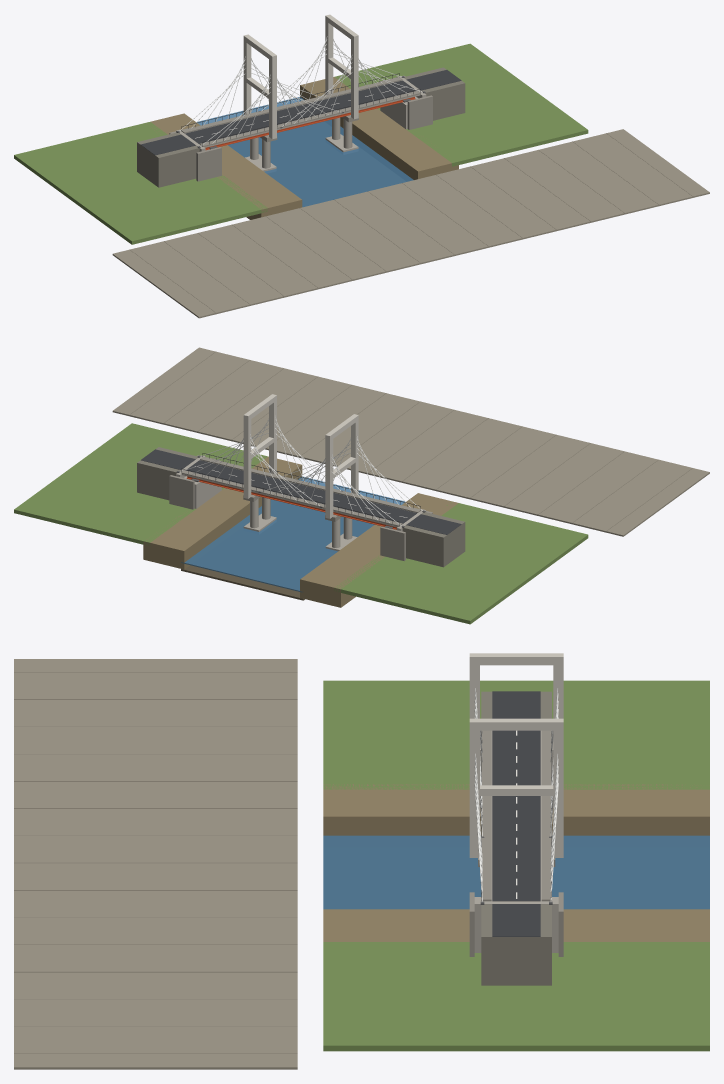
File: p1-Most wantowy – wykład.glb
3 views of the same model, one above another, from view 1: azimuth 30°, elevation 25°; view 2: azimuth 150°, elevation 25°; view 3: azimuth 270°, elevation 25° (orthographic). The views are drawn at different scales.
Parts seen in each view (by area): view 1: Teren, 10 Pomost z jezdnią, 09 Pylon prawy, 08 Pylon lewy, 02 Przyczółek prawy, 11 Wanty lewe, 12 Wanty prawe, 01 Przyczółek lewy, 04 Filar prawy, 03 Filar lewy; view 2: Teren, 10 Pomost z jezdnią, 09 Pylon prawy, 08 Pylon lewy, 02 Przyczółek prawy, 11 Wanty lewe, 12 Wanty prawe, 01 Przyczółek lewy, 04 Filar prawy, 03 Filar lewy; view 3: Teren, 10 Pomost z jezdnią, 09 Pylon prawy, 08 Pylon lewy, 02 Przyczółek prawy, 12 Wanty prawe.
Part boxes in pixels (bbox=[...]): Teren: bbox=[14, 43, 709, 318]; 10 Pomost z jezdnią: bbox=[181, 73, 420, 147]; 09 Pylon prawy: bbox=[325, 14, 358, 119]; 08 Pylon lewy: bbox=[243, 34, 276, 139]; 02 Przyczółek prawy: bbox=[380, 75, 432, 129]; 11 Wanty lewe: bbox=[176, 56, 343, 148]; 12 Wanty prawe: bbox=[259, 36, 425, 128]; 01 Przyczółek lewy: bbox=[169, 127, 221, 181]; 04 Filar prawy: bbox=[325, 115, 358, 154]; 03 Filar lewy: bbox=[245, 135, 277, 172]; Teren: bbox=[14, 347, 709, 624]; 10 Pomost z jezdnią: bbox=[181, 453, 420, 527]; 09 Pylon prawy: bbox=[243, 394, 276, 498]; 08 Pylon lewy: bbox=[325, 414, 358, 518]; 02 Przyczółek prawy: bbox=[169, 455, 221, 509]; 11 Wanty lewe: bbox=[258, 436, 425, 527]; 12 Wanty prawe: bbox=[176, 416, 342, 507]; 01 Przyczółek lewy: bbox=[380, 507, 432, 560]; 04 Filar prawy: bbox=[243, 494, 276, 533]; 03 Filar lewy: bbox=[325, 514, 357, 552]; Teren: bbox=[14, 659, 709, 1069]; 10 Pomost z jezdnią: bbox=[481, 730, 551, 901]; 09 Pylon prawy: bbox=[469, 718, 563, 857]; 08 Pylon lewy: bbox=[469, 653, 563, 718]; 02 Przyczółek prawy: bbox=[469, 892, 563, 956]; 12 Wanty prawe: bbox=[474, 753, 558, 904].
Bounding box in the file's own units: 0.9 × 0.2145 × 0.648.
